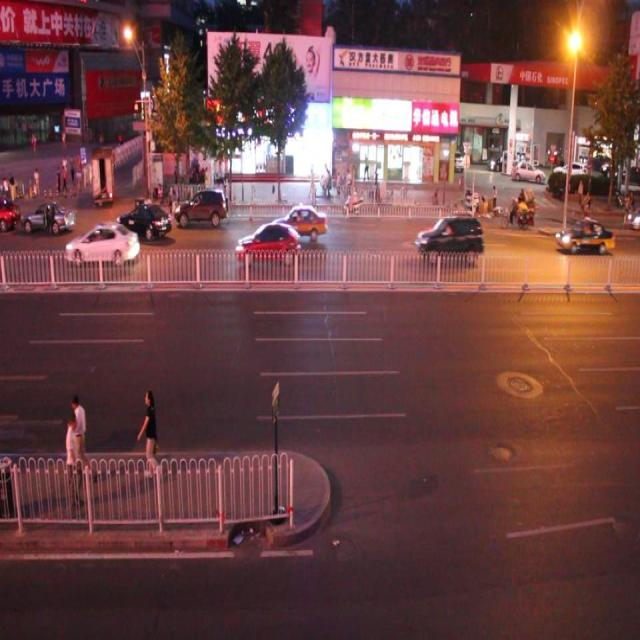bus: (91, 146, 116, 202)
car: (414, 212, 484, 266), (65, 219, 141, 267), (234, 221, 300, 264), (174, 190, 228, 236), (20, 196, 77, 238), (118, 200, 171, 242), (554, 217, 613, 254), (272, 202, 328, 240)
